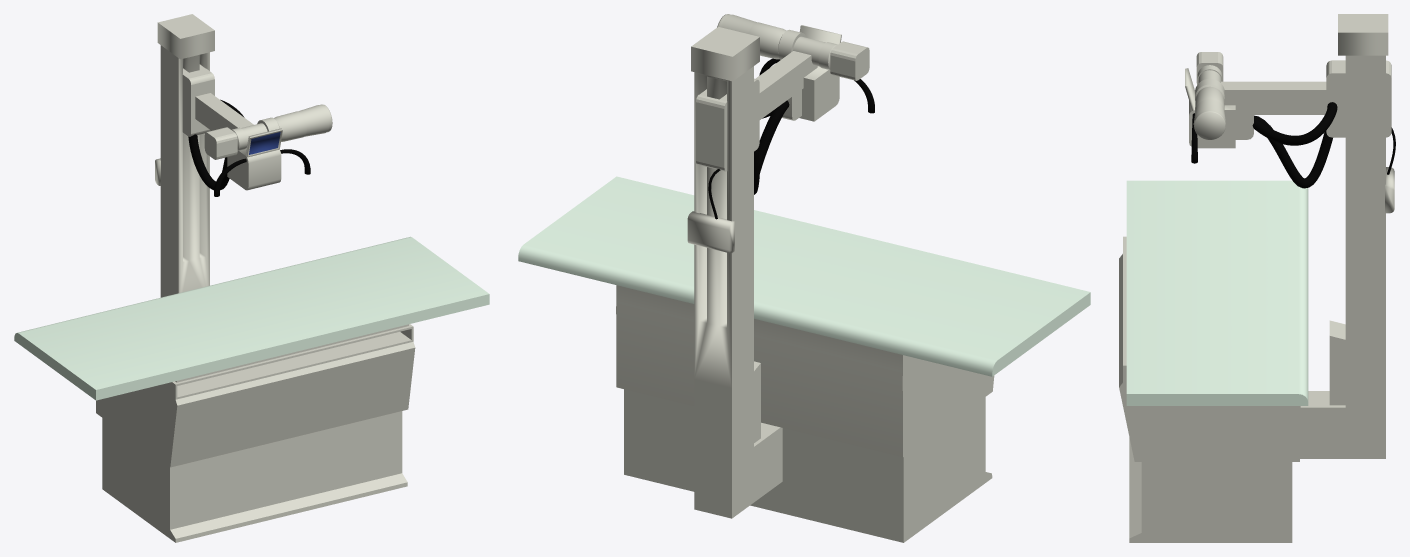
3 views of the same model, side by side, from view 1: azimuth 30°, elevation 25°; view 2: azimuth 150°, elevation 25°; view 3: azimuth 270°, elevation 25° (orthographic). The views are drawn at different scales.
Visible parts, largest first — view 1: RX-20; view 2: RX-20; view 3: RX-20.
Part boxes in pixels (left/top/right/bottom): RX-20: left=14, top=14, right=489, bottom=542; RX-20: left=518, top=14, right=1090, bottom=542; RX-20: left=1119, top=14, right=1395, bottom=542.
Bounding box in the file's own units: 187 × 187 × 103.
